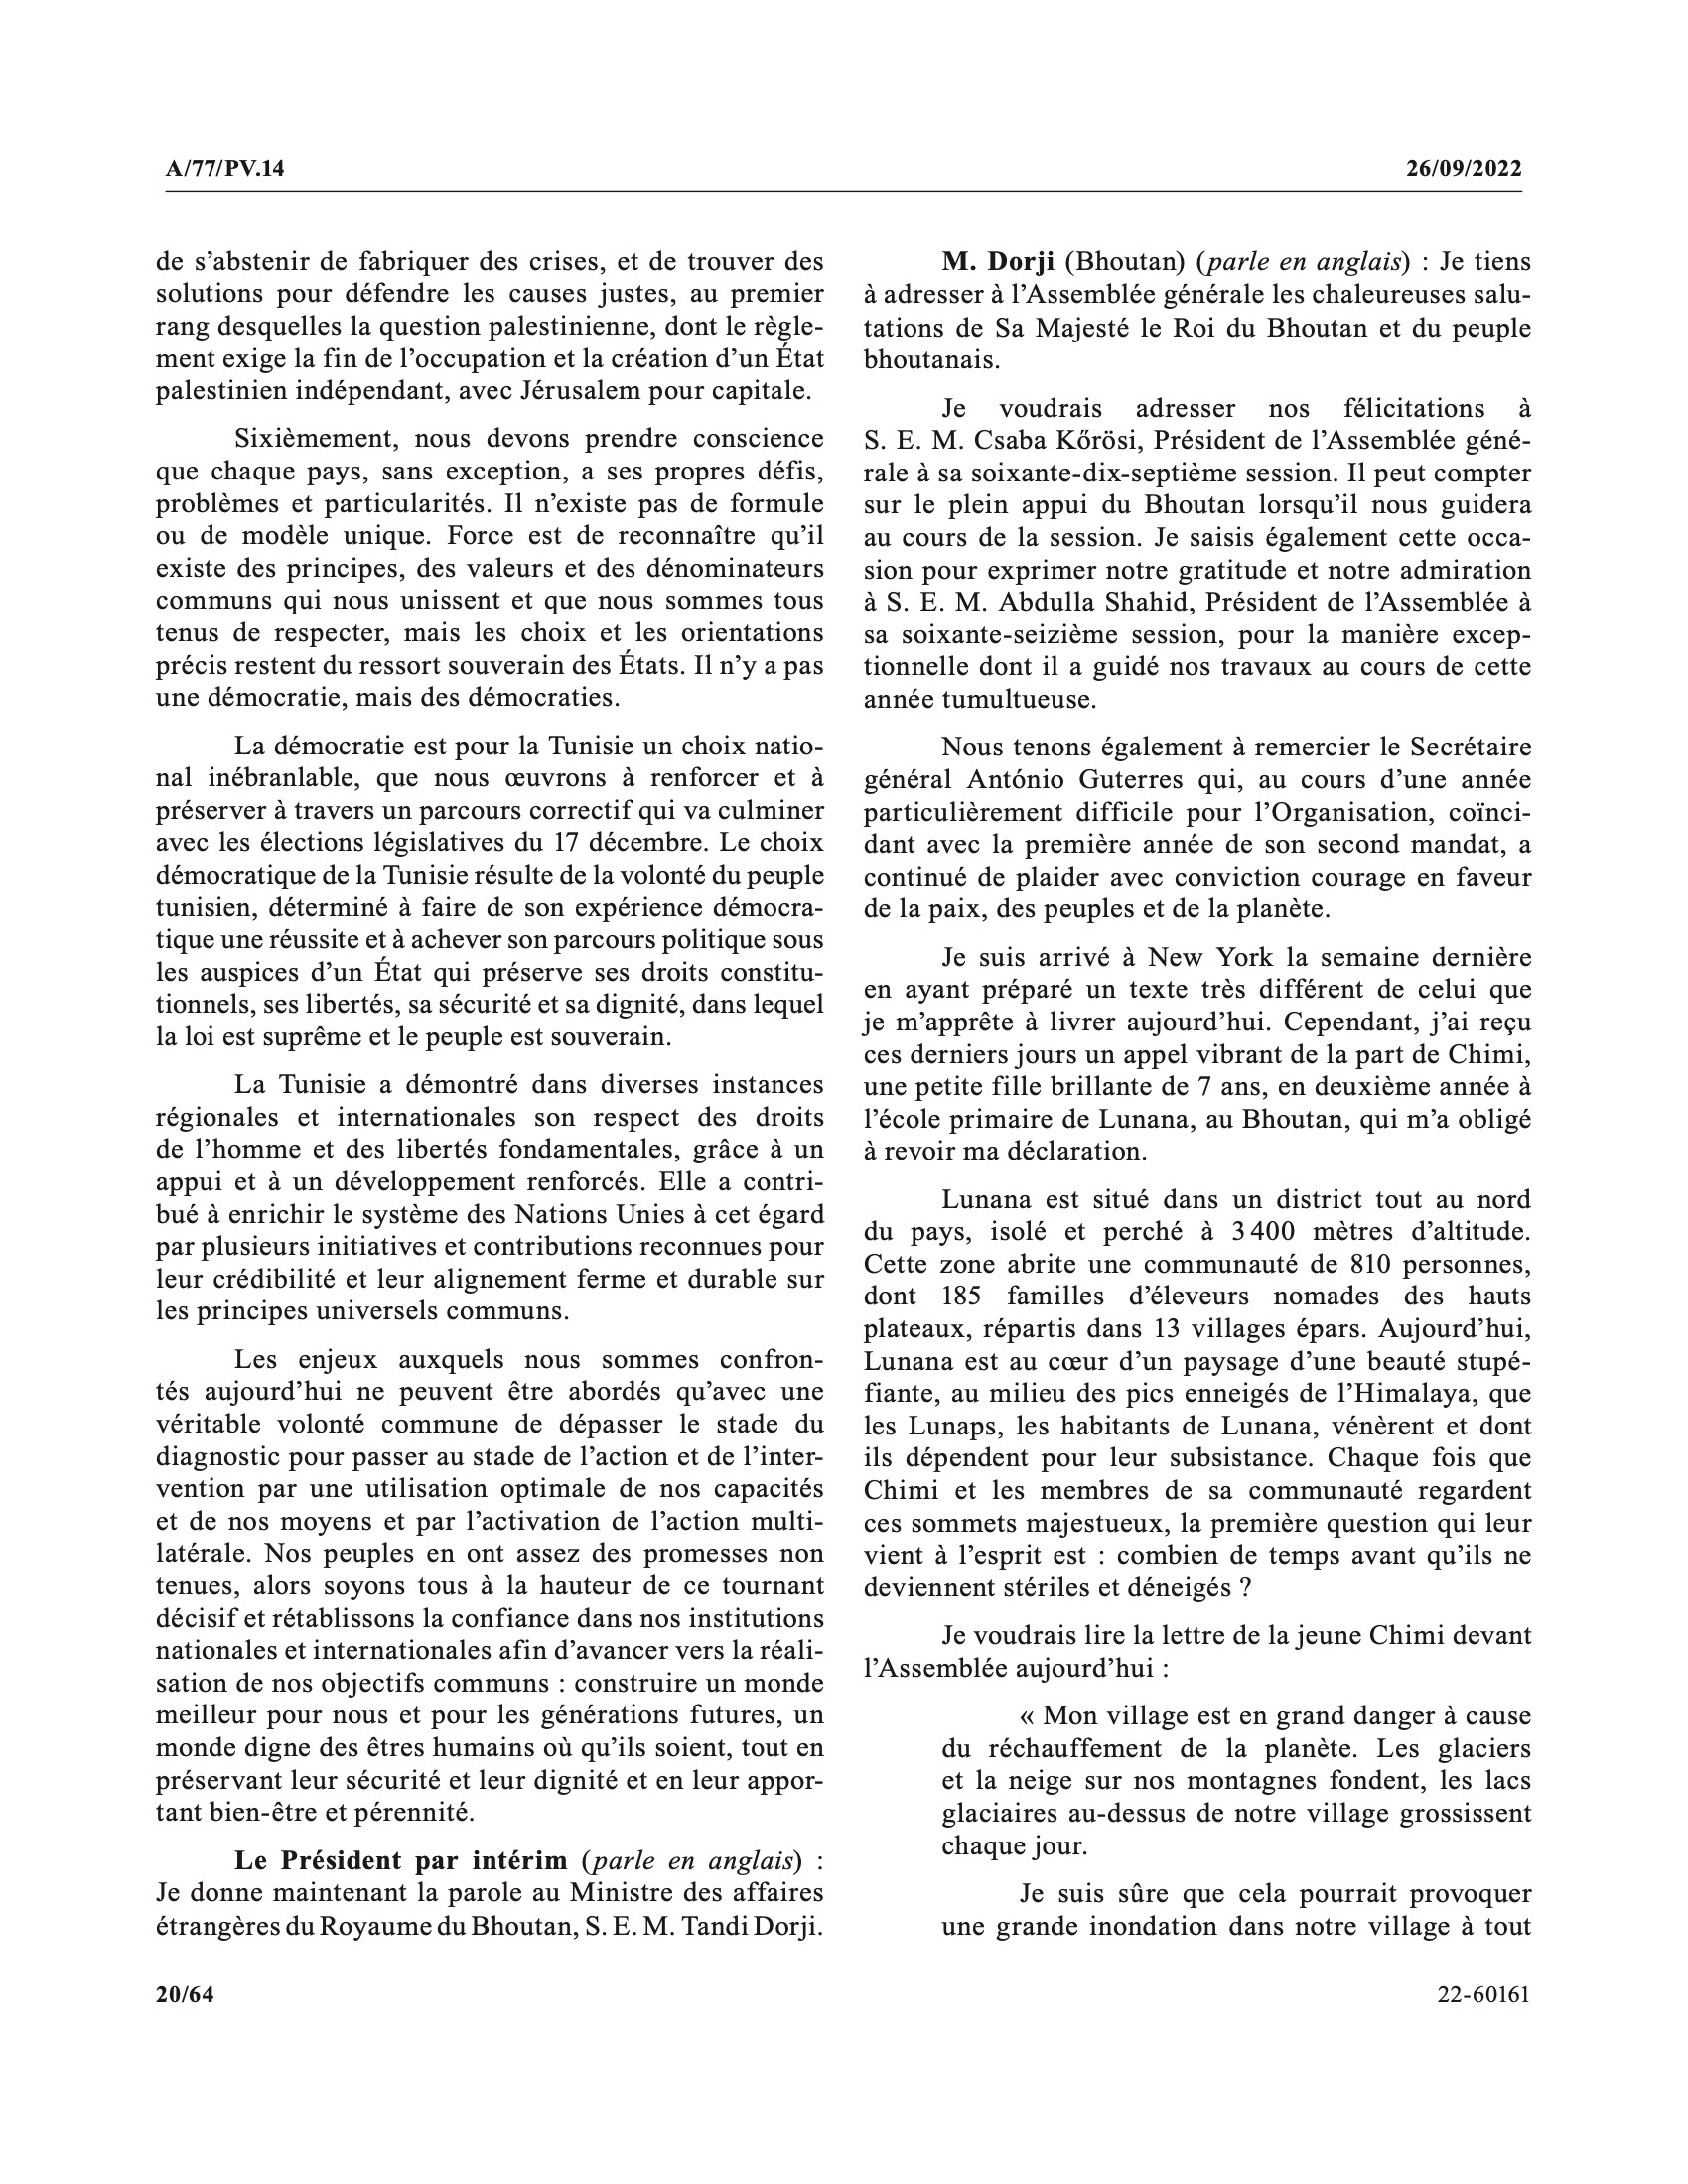MainZone-Continued: (149, 239, 834, 409)
MainZone-Date: (1398, 149, 1528, 187)
MainZone-P: (147, 1342, 833, 1833), (857, 1181, 1543, 1607), (146, 728, 833, 1057), (858, 388, 1543, 718), (147, 420, 834, 716), (148, 1065, 832, 1329), (860, 938, 1541, 1168), (859, 730, 1542, 928), (927, 1699, 1544, 1864), (858, 240, 1539, 379), (149, 1842, 833, 1953), (857, 1614, 1542, 1691), (932, 1874, 1542, 1954)
StampZone: (158, 149, 296, 189)
TitlePageZone: (1427, 1976, 1537, 2014), (148, 1978, 224, 2015)
